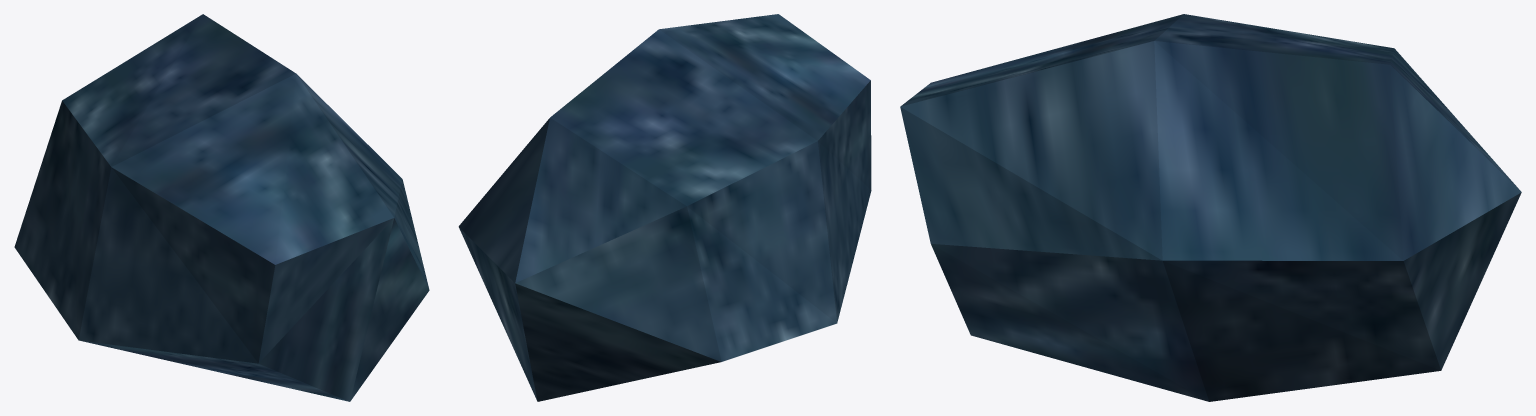
The model's file is StoneCoffin01.glb.
3 renders of one model, left to right at view 1: azimuth 30°, elevation 25°; view 2: azimuth 150°, elevation 25°; view 3: azimuth 270°, elevation 25°, orthographic. The views are drawn at different scales.
Parts seen in each view (by area): view 1: model_StoneCoffin01; view 2: model_StoneCoffin01; view 3: model_StoneCoffin01.
Part boxes in pixels (x1,y1,x2,y2): model_StoneCoffin01: (14, 14, 429, 401); model_StoneCoffin01: (458, 14, 871, 401); model_StoneCoffin01: (900, 14, 1521, 401).
Bounding box in the file's own units: 0.3212 × 0.3099 × 0.4814.
1 material, 1 textured.
